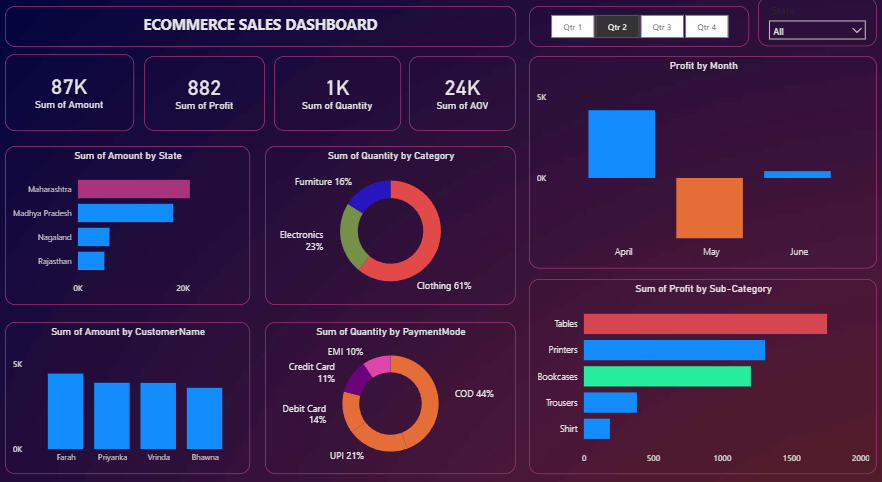

This screenshot's page, from the dashboard's own definition file:
{"tool":"powerbi","page":{"name":"Page 1","canvas":[1280,720],"ordinal":0},"visuals":[{"type":"textbox","box":[10.1,13,735.8,59],"z":0},{"type":"columnChart","title":"Profit by Month","fields":{"Y":["Sum(Details.Profit)"],"Category":["Orders.Order Date.Variation.Date Hierarchy.Month"]},"box":[764.3,84.3,501.4,305.7],"z":1000},{"type":"barChart","fields":{"Category":["Details.Sub-Category"],"Y":["Sum(Details.Profit)"]},"box":[764.3,405.7,501.4,281.4],"z":2000},{"type":"donutChart","fields":{"Category":["Details.Category"],"Y":["Sum(Details.Quantity)"]},"box":[384.3,214.3,361.4,228.6],"z":3000},{"type":"donutChart","fields":{"Category":["Details.PaymentMode","Details.Category"],"Y":["Sum(Details.Quantity)"]},"box":[384.5,468,361.4,218.9],"z":4000},{"type":"cardVisual","fields":{"Data":["Sum(Details.Amount)"]},"box":[10.1,82.1,185.8,110.9],"z":5000},{"type":"cardVisual","fields":{"Data":["Sum(Details.Profit)"]},"box":[210.2,85,174.2,108],"z":6000},{"type":"cardVisual","fields":{"Data":["Sum(Details.Quantity)"]},"box":[397.4,85,182.9,108],"z":7000},{"type":"cardVisual","fields":{"Data":["Sum(Details.AOV)"]},"box":[591.8,85,154.1,108],"z":8000},{"type":"barChart","fields":{"Y":["Sum(Details.Amount)"],"Category":["Orders.State"]},"box":[10,214.3,352.9,228.6],"z":9000},{"type":"columnChart","fields":{"Category":["Orders.CustomerName"],"Y":["Sum(Details.Amount)"]},"box":[10.1,468,352.8,218.9],"z":10000},{"type":"slicer","fields":{"Values":["Orders.Order Date.Variation.Date Hierarchy.Quarter"]},"box":[764.3,12.9,317.1,58.6],"z":11000},{"type":"slicer","fields":{"Values":["Orders.State"]},"box":[1094.3,0,171.4,71.4],"z":12000}]}

Visuals, with their boxes in screenshot pixels (x1, y1, x2, y2), scaled from the page's 1280x720 canvas onto the 882x482 screenshot:
textbox: locate(7, 9, 514, 48)
"Profit by Month" columnChart: locate(527, 56, 872, 261)
barChart - Details.Sub-Category x Sum(Details.Profit): locate(527, 272, 872, 460)
donutChart - Details.Category x Sum(Details.Quantity): locate(265, 143, 514, 296)
donutChart - Details.PaymentMode x Details.Category: locate(265, 313, 514, 460)
cardVisual - Sum(Details.Amount): locate(7, 55, 135, 129)
cardVisual - Sum(Details.Profit): locate(145, 57, 265, 129)
cardVisual - Sum(Details.Quantity): locate(274, 57, 400, 129)
cardVisual - Sum(Details.AOV): locate(408, 57, 514, 129)
barChart - Sum(Details.Amount) x Orders.State: locate(7, 143, 250, 296)
columnChart - Orders.CustomerName x Sum(Details.Amount): locate(7, 313, 250, 460)
slicer - Orders.Order Date.Variation.Date Hierarchy.Quarter: locate(527, 9, 745, 48)
slicer - Orders.State: locate(754, 0, 872, 48)
